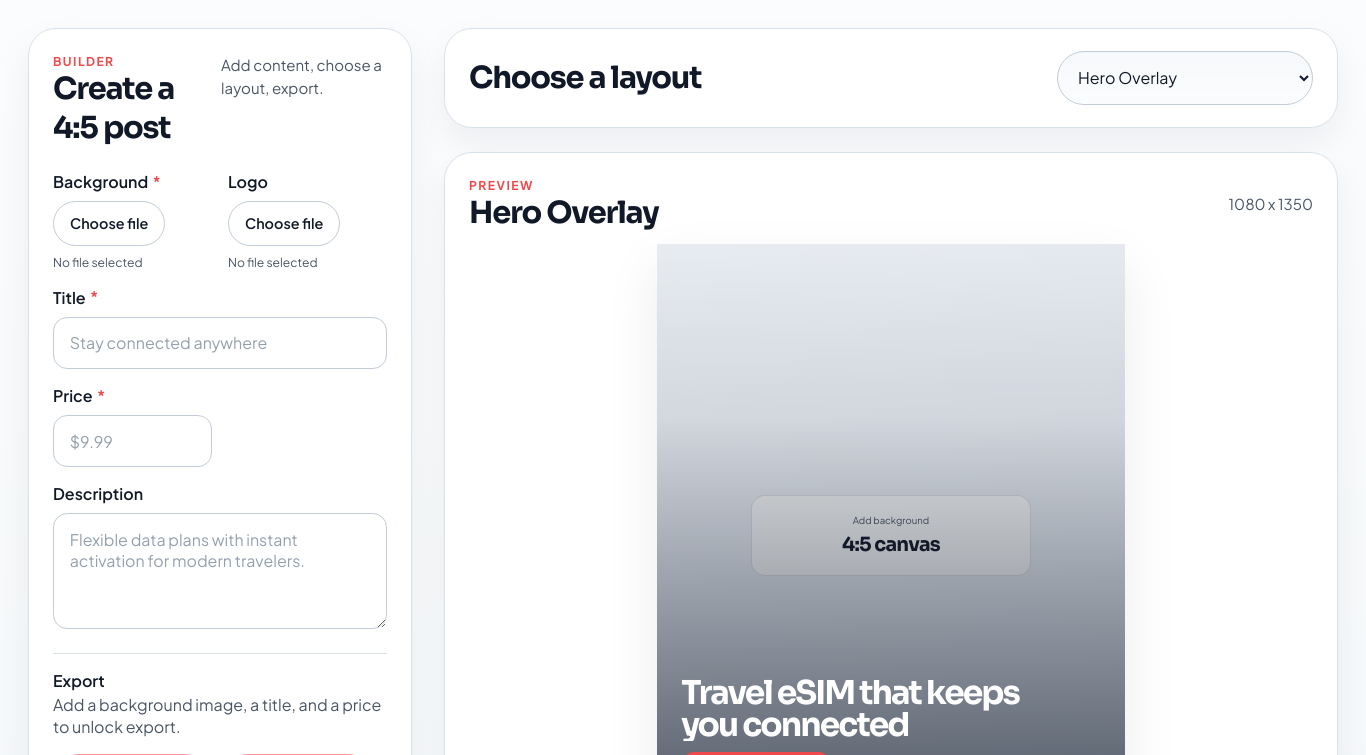
it: App › updates the preview when the layout dropdown changes
Select "Centered Focus" in the dropdown named "choose a layout". click: (1185, 78)
box: [1057,51,1313,105]
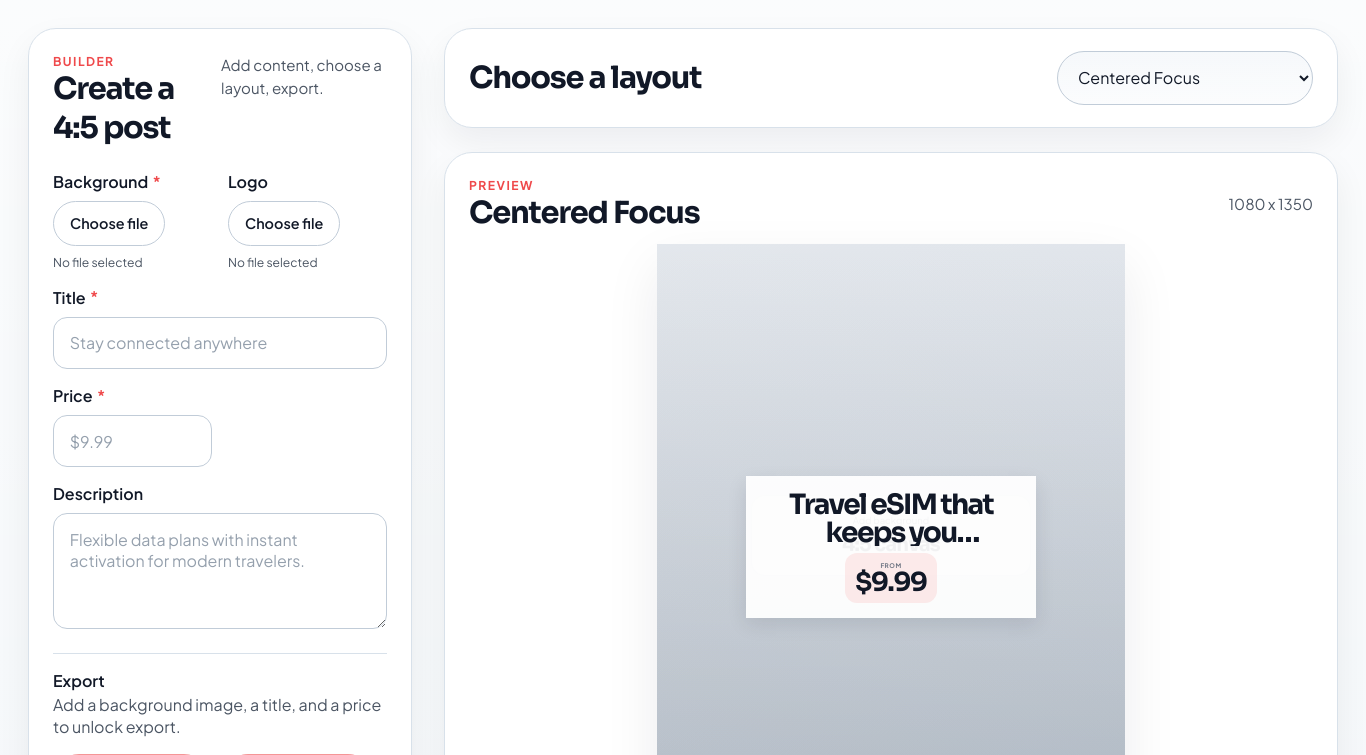
expect the heading "Centered Focus" is shown: met, box [469,193,699,232]
